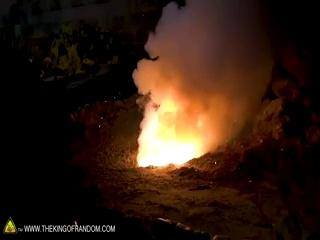Fire: (141, 90, 204, 171)
